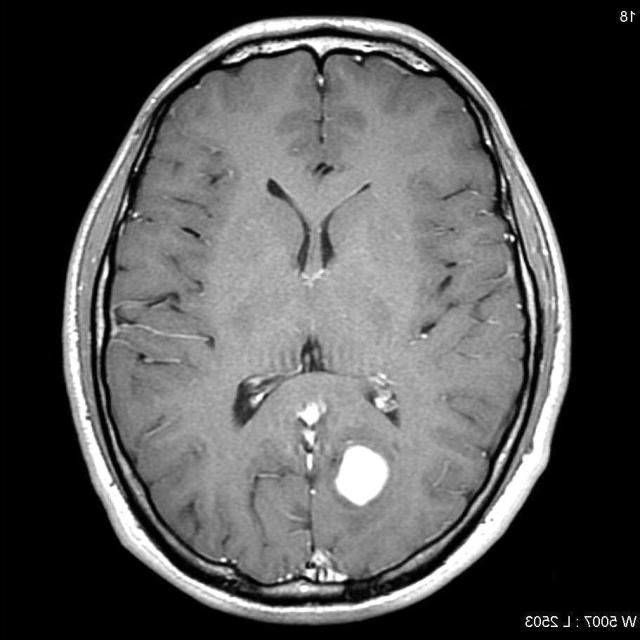Tumor: (336, 444, 387, 506)
